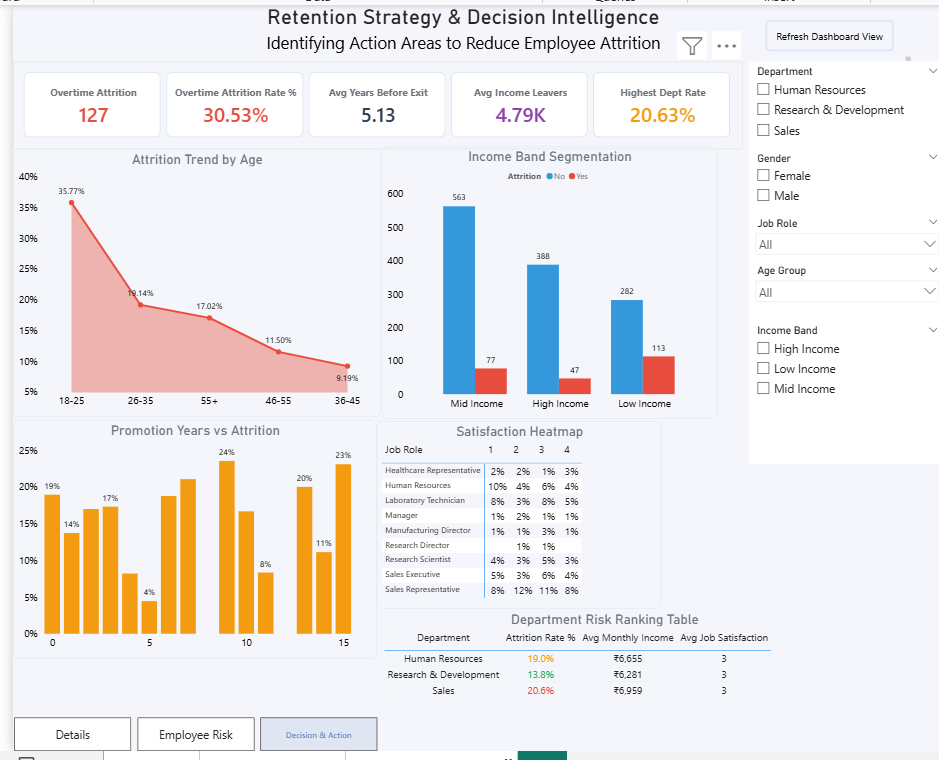

Layout of this report page (visuals, bound fields, positions):
{"tool":"powerbi","page":{"name":"Decision & Action","canvas":[1500,1200],"ordinal":2},"visuals":[{"type":"textbox","title":"Retention Strategy & Decision Intelligence","box":[0,0,1449.1,94.4],"z":0},{"type":"cardVisual","fields":{"Data":["WA_Fn-UseC_-HR-Employee-Attrition.Overtime Attrition","WA_Fn-UseC_-HR-Employee-Attrition.Overtime Attrition Rate %","WA_Fn-UseC_-HR-Employee-Attrition.Avg Years Before Exit","WA_Fn-UseC_-HR-Employee-Attrition.Avg Income Leavers","WA_Fn-UseC_-HR-Employee-Attrition.Highest Risk Department"]},"box":[0,90.6,1173.5,140.7],"z":1000},{"type":"lineChart","title":"Attrition Trend by Age","fields":{"Category":["WA_Fn-UseC_-HR-Employee-Attrition.Age Group"],"Y":["WA_Fn-UseC_-HR-Employee-Attrition.Attrition Rate %1"]},"box":[0,230.4,591.7,431.3],"z":2000},{"type":"pivotTable","title":"Satisfaction Heatmap","fields":{"Rows":["WA_Fn-UseC_-HR-Employee-Attrition.JobRole"],"Columns":["WA_Fn-UseC_-HR-Employee-Attrition.JobSatisfaction"],"Values":["WA_Fn-UseC_-HR-Employee-Attrition.Satisfaction %"]},"box":[585.1,669.6,458.4,301.6],"z":3000},{"type":"clusteredColumnChart","title":"Income Band Segmentation","fields":{"Category":["WA_Fn-UseC_-HR-Employee-Attrition.Income Band"],"Series":["WA_Fn-UseC_-HR-Employee-Attrition.Attrition"],"Y":["CountNonNull(WA_Fn-UseC_-HR-Employee-Attrition.EmployeeNumber)"]},"box":[593.5,226.7,540,438.7],"z":5000},{"type":"clusteredColumnChart","title":"Promotion Years vs Attrition","fields":{"Category":["WA_Fn-UseC_-HR-Employee-Attrition.YearsSinceLastPromotion"],"Y":["WA_Fn-UseC_-HR-Employee-Attrition.Attrition Rate %1"]},"box":[0,667.6,585.1,384.1],"z":6000},{"type":"shape","box":[1184.3,90.5,315.7,647.5],"z":7000},{"type":"slicer","fields":{"Values":["WA_Fn-UseC_-HR-Employee-Attrition.Department"]},"box":[1184.3,92.5,315.7,132.7],"z":8000},{"type":"slicer","fields":{"Values":["WA_Fn-UseC_-HR-Employee-Attrition.Gender"]},"box":[1184.3,231.2,315.7,104.6],"z":9000},{"type":"slicer","fields":{"Values":["WA_Fn-UseC_-HR-Employee-Attrition.Age Group1"]},"box":[1184.3,412.2,315.7,84.5],"z":10000},{"type":"slicer","fields":{"Values":["WA_Fn-UseC_-HR-Employee-Attrition.JobRole"]},"box":[1184.3,335.8,315.7,84.5],"z":11000},{"type":"slicer","fields":{"Values":["WA_Fn-UseC_-HR-Employee-Attrition.Income Band"]},"box":[1184.3,508.7,315.7,229.2],"z":12000},{"type":"actionButton","box":[1210.1,25.1,206.2,50.1],"z":13000},{"type":"pageNavigator","box":[2,1146.1,585.1,54.3],"z":14000},{"type":"tableEx","title":"Department Risk Ranking Table","fields":{"Values":["WA_Fn-UseC_-HR-Employee-Attrition.Department","WA_Fn-UseC_-HR-Employee-Attrition.Attrition Rate %","WA_Fn-UseC_-HR-Employee-Attrition.Avg Monthly Income","WA_Fn-UseC_-HR-Employee-Attrition.Avg Job Satisfaction"]},"box":[591.2,975.2,721.9,150.8],"z":14001}]}

Visuals, with their boxes on the page's 1500x1200 design canvas (x1, y1, x2, y2). These are canvas units, not pixel positions in the 939x760 screenshot, which may show the page scaled, cropped or inside an application window:
"Retention Strategy & Decision Intelligence" textbox: rect(0, 0, 1449, 94)
cardVisual - WA_Fn-UseC_-HR-Employee-Attrition.Overtime Attrition x WA_Fn-UseC_-HR-Employee-Attrition.Overtime Attrition Rate %: rect(0, 91, 1174, 231)
"Attrition Trend by Age" lineChart: rect(0, 230, 592, 662)
"Satisfaction Heatmap" pivotTable: rect(585, 670, 1044, 971)
"Income Band Segmentation" clusteredColumnChart: rect(594, 227, 1134, 665)
"Promotion Years vs Attrition" clusteredColumnChart: rect(0, 668, 585, 1052)
shape: rect(1184, 90, 1500, 738)
slicer - WA_Fn-UseC_-HR-Employee-Attrition.Department: rect(1184, 92, 1500, 225)
slicer - WA_Fn-UseC_-HR-Employee-Attrition.Gender: rect(1184, 231, 1500, 336)
slicer - WA_Fn-UseC_-HR-Employee-Attrition.Age Group1: rect(1184, 412, 1500, 497)
slicer - WA_Fn-UseC_-HR-Employee-Attrition.JobRole: rect(1184, 336, 1500, 420)
slicer - WA_Fn-UseC_-HR-Employee-Attrition.Income Band: rect(1184, 509, 1500, 738)
actionButton: rect(1210, 25, 1416, 75)
pageNavigator: rect(2, 1146, 587, 1200)
"Department Risk Ranking Table" tableEx: rect(591, 975, 1313, 1126)
